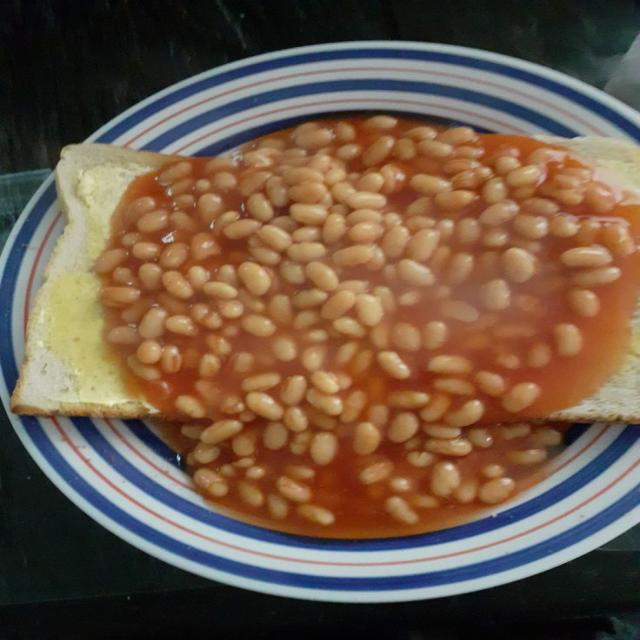beans: (238, 262, 270, 295), (246, 392, 282, 420), (304, 261, 338, 290), (310, 433, 336, 465)
sliced bread: (10, 144, 174, 418), (535, 136, 639, 203), (551, 347, 639, 421), (633, 299, 639, 338)
